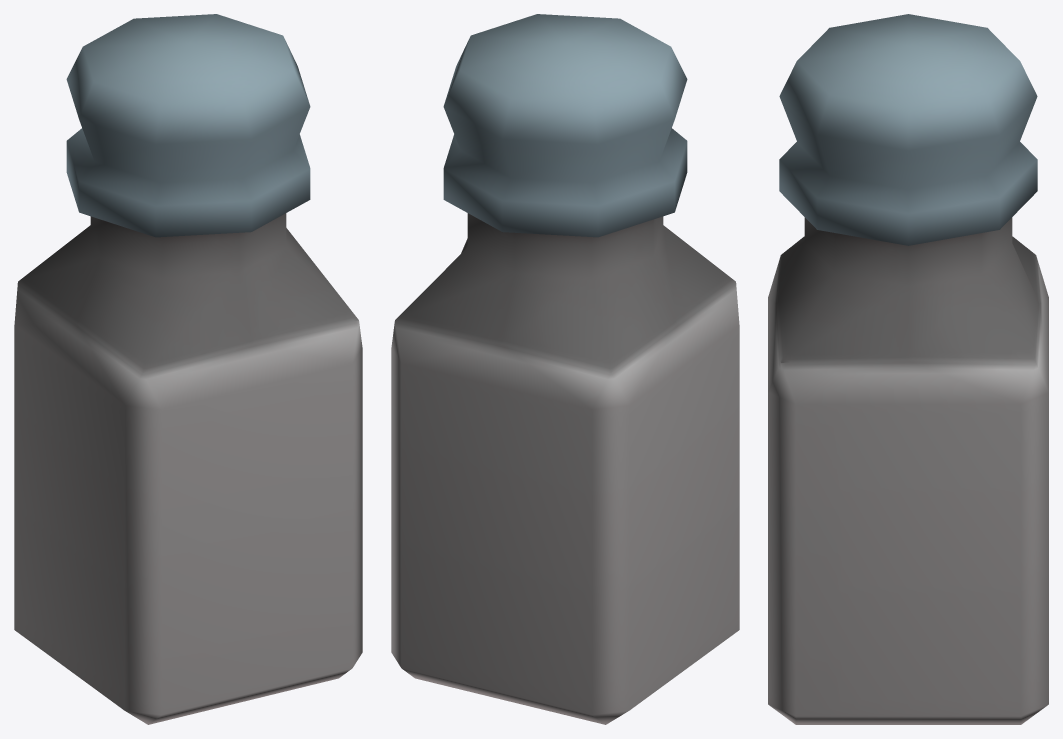
The model's file is salt_01.fbx.
3 renders of one model, left to right at view 1: azimuth 30°, elevation 25°; view 2: azimuth 150°, elevation 25°; view 3: azimuth 270°, elevation 25°, orthographic. The views are drawn at different scales.
Parts seen in each view (by area): view 1: salt_01_ready; view 2: salt_01_ready; view 3: salt_01_ready.
Boxes of the visible parts, left/top/right/bottom form: salt_01_ready: left=14, top=14, right=362, bottom=724; salt_01_ready: left=391, top=14, right=739, bottom=724; salt_01_ready: left=768, top=14, right=1048, bottom=724.
Bounding box in the file's own units: 8.92 × 22.13 × 8.92.
